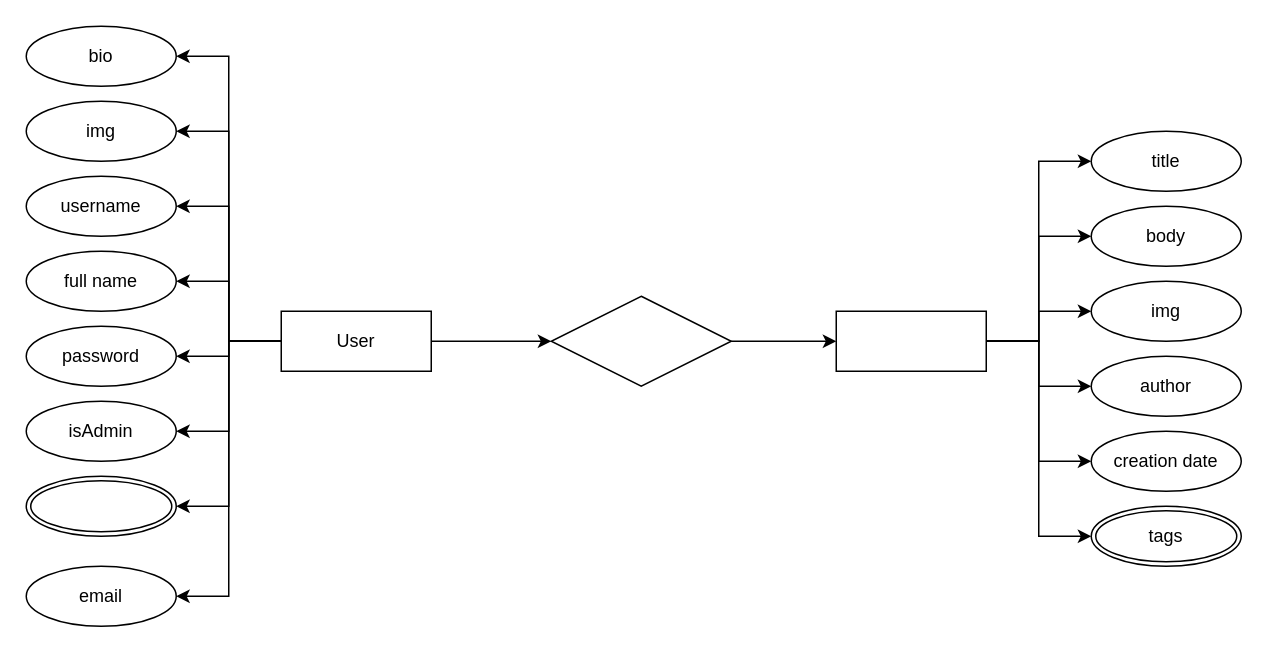
The diagram is 1268 pixels wide and 653 high, and some of its shapes have lost their labels. Each missing label, with the centre of its shape:
"Blog" belongs at point 910,340.
"following" belongs at point 100,505.
"has" belongs at point 640,340.
